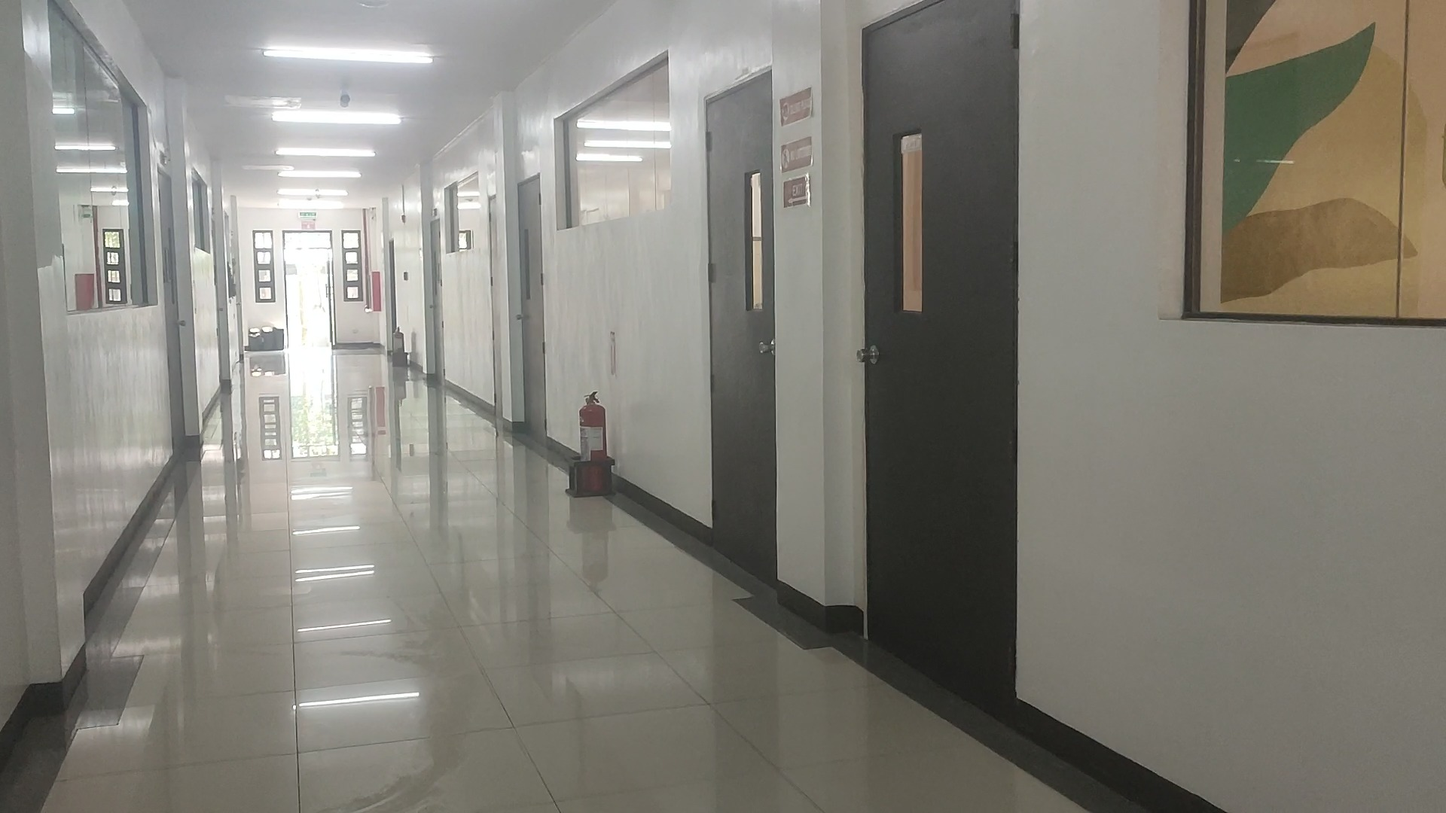door: (861, 0, 1018, 720), (705, 71, 778, 592)
